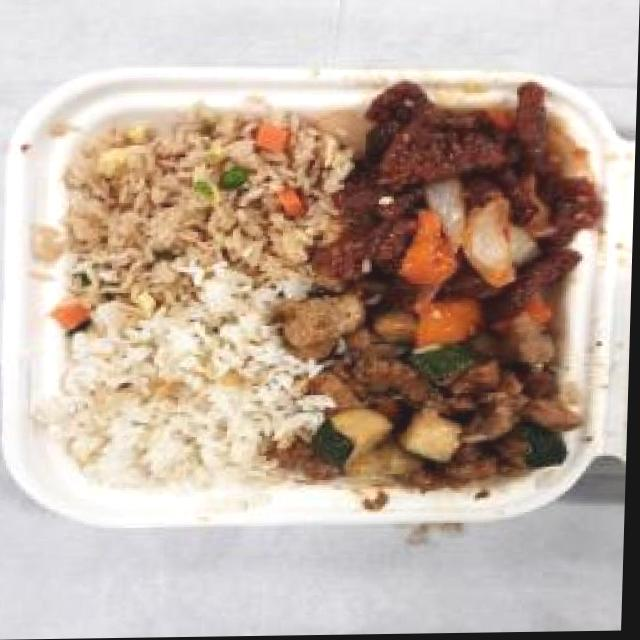Beijing Beef: (311, 78, 619, 304)
Fried Rice: (47, 101, 351, 339)
Kung Pao Chicken: (298, 295, 586, 496)
White Steamed Rice: (49, 318, 301, 489)
